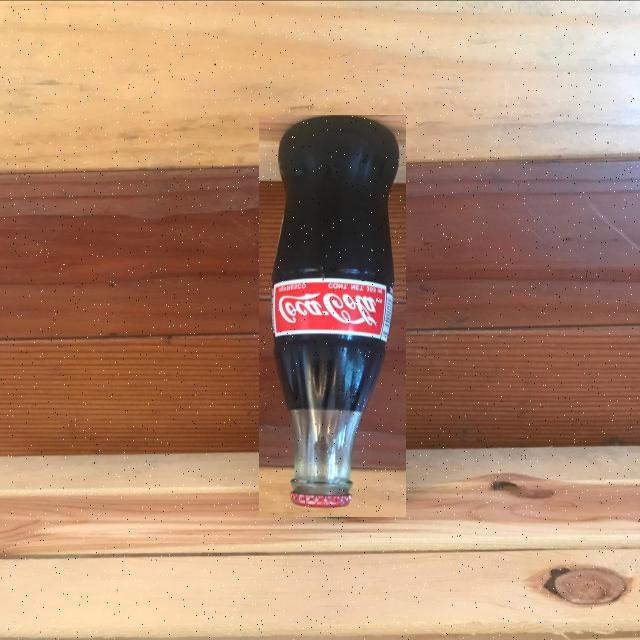coca-cola: (259, 115, 406, 518)
